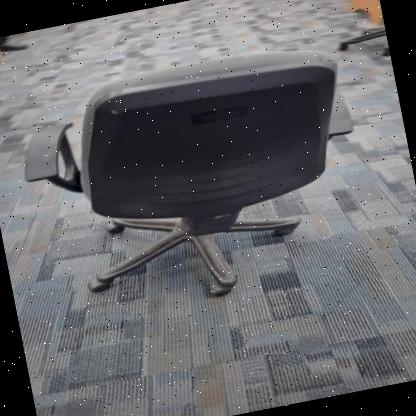chair: (2, 20, 390, 338)
